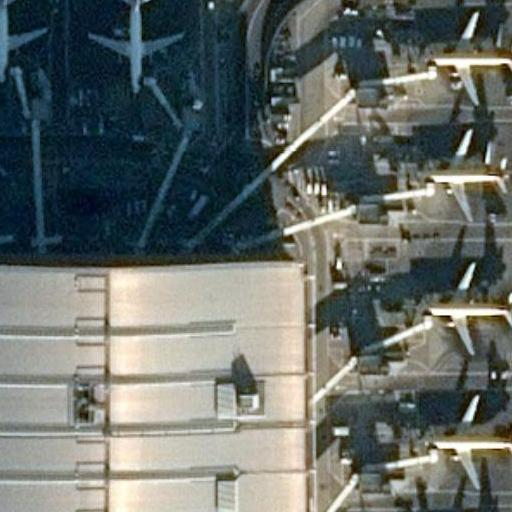Aircraft: (419, 126, 511, 225), (88, 0, 184, 94), (425, 259, 512, 358), (427, 394, 512, 493), (429, 8, 512, 107), (0, 0, 50, 85), (422, 511, 512, 512)
